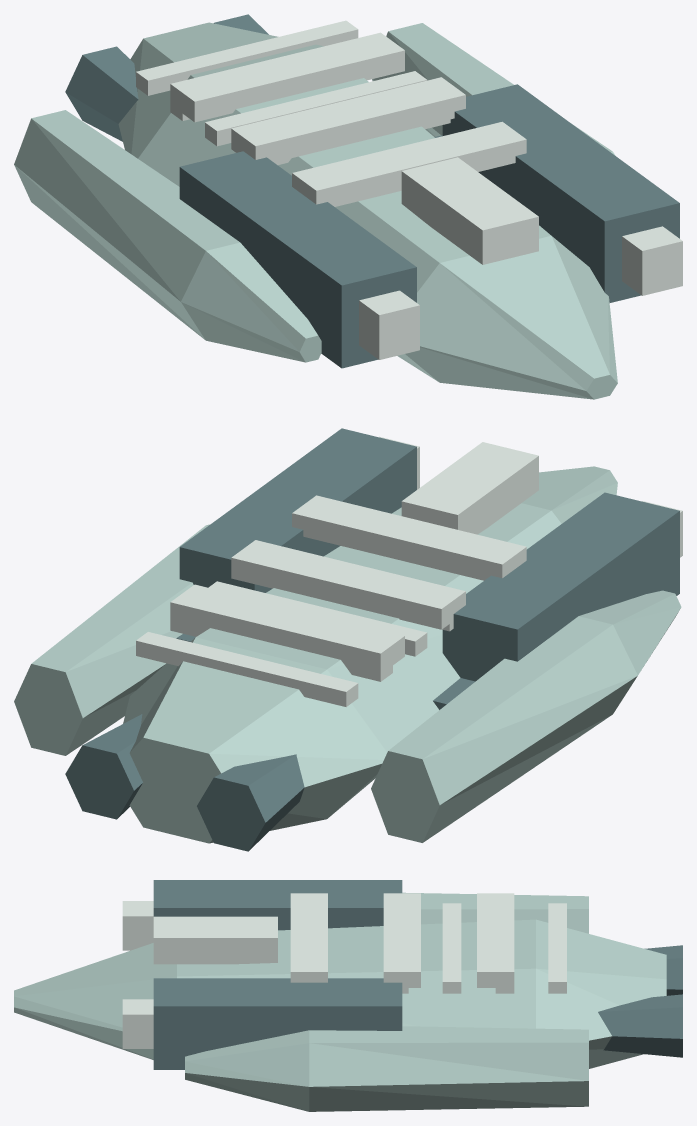
3 renders of one model, top to bottom at view 1: azimuth 30°, elevation 25°; view 2: azimuth 150°, elevation 25°; view 3: azimuth 270°, elevation 25°, orthographic. The views are drawn at different scales.
Bounding box in the file's own units: 2.63 × 0.9434 × 4.35.
